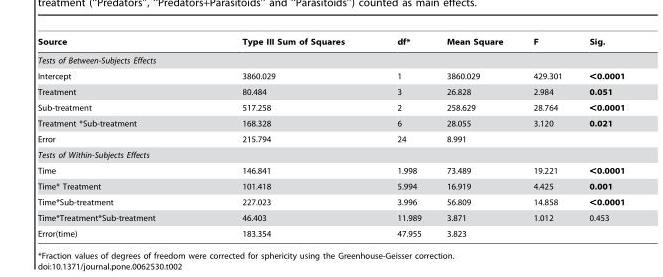table: (37, 37, 624, 237)
table column: (198, 37, 370, 237), (37, 37, 198, 237), (433, 37, 517, 237), (370, 37, 433, 237), (517, 37, 575, 237), (575, 37, 624, 237)
table column header: (37, 37, 624, 50)
table projected row header: (37, 50, 624, 68), (37, 146, 624, 162)
table row: (37, 50, 624, 68), (37, 83, 624, 99), (37, 99, 624, 115), (37, 115, 624, 131), (37, 146, 624, 162), (37, 162, 624, 178), (37, 178, 624, 194), (37, 209, 624, 225), (37, 68, 624, 83), (37, 131, 624, 146), (37, 194, 624, 209), (37, 37, 624, 50), (37, 225, 624, 237)
